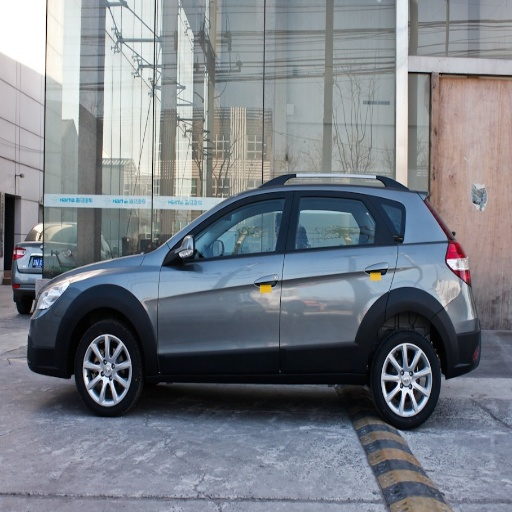back_left_door: (280, 185, 396, 369)
front_left_door: (159, 187, 292, 367)
